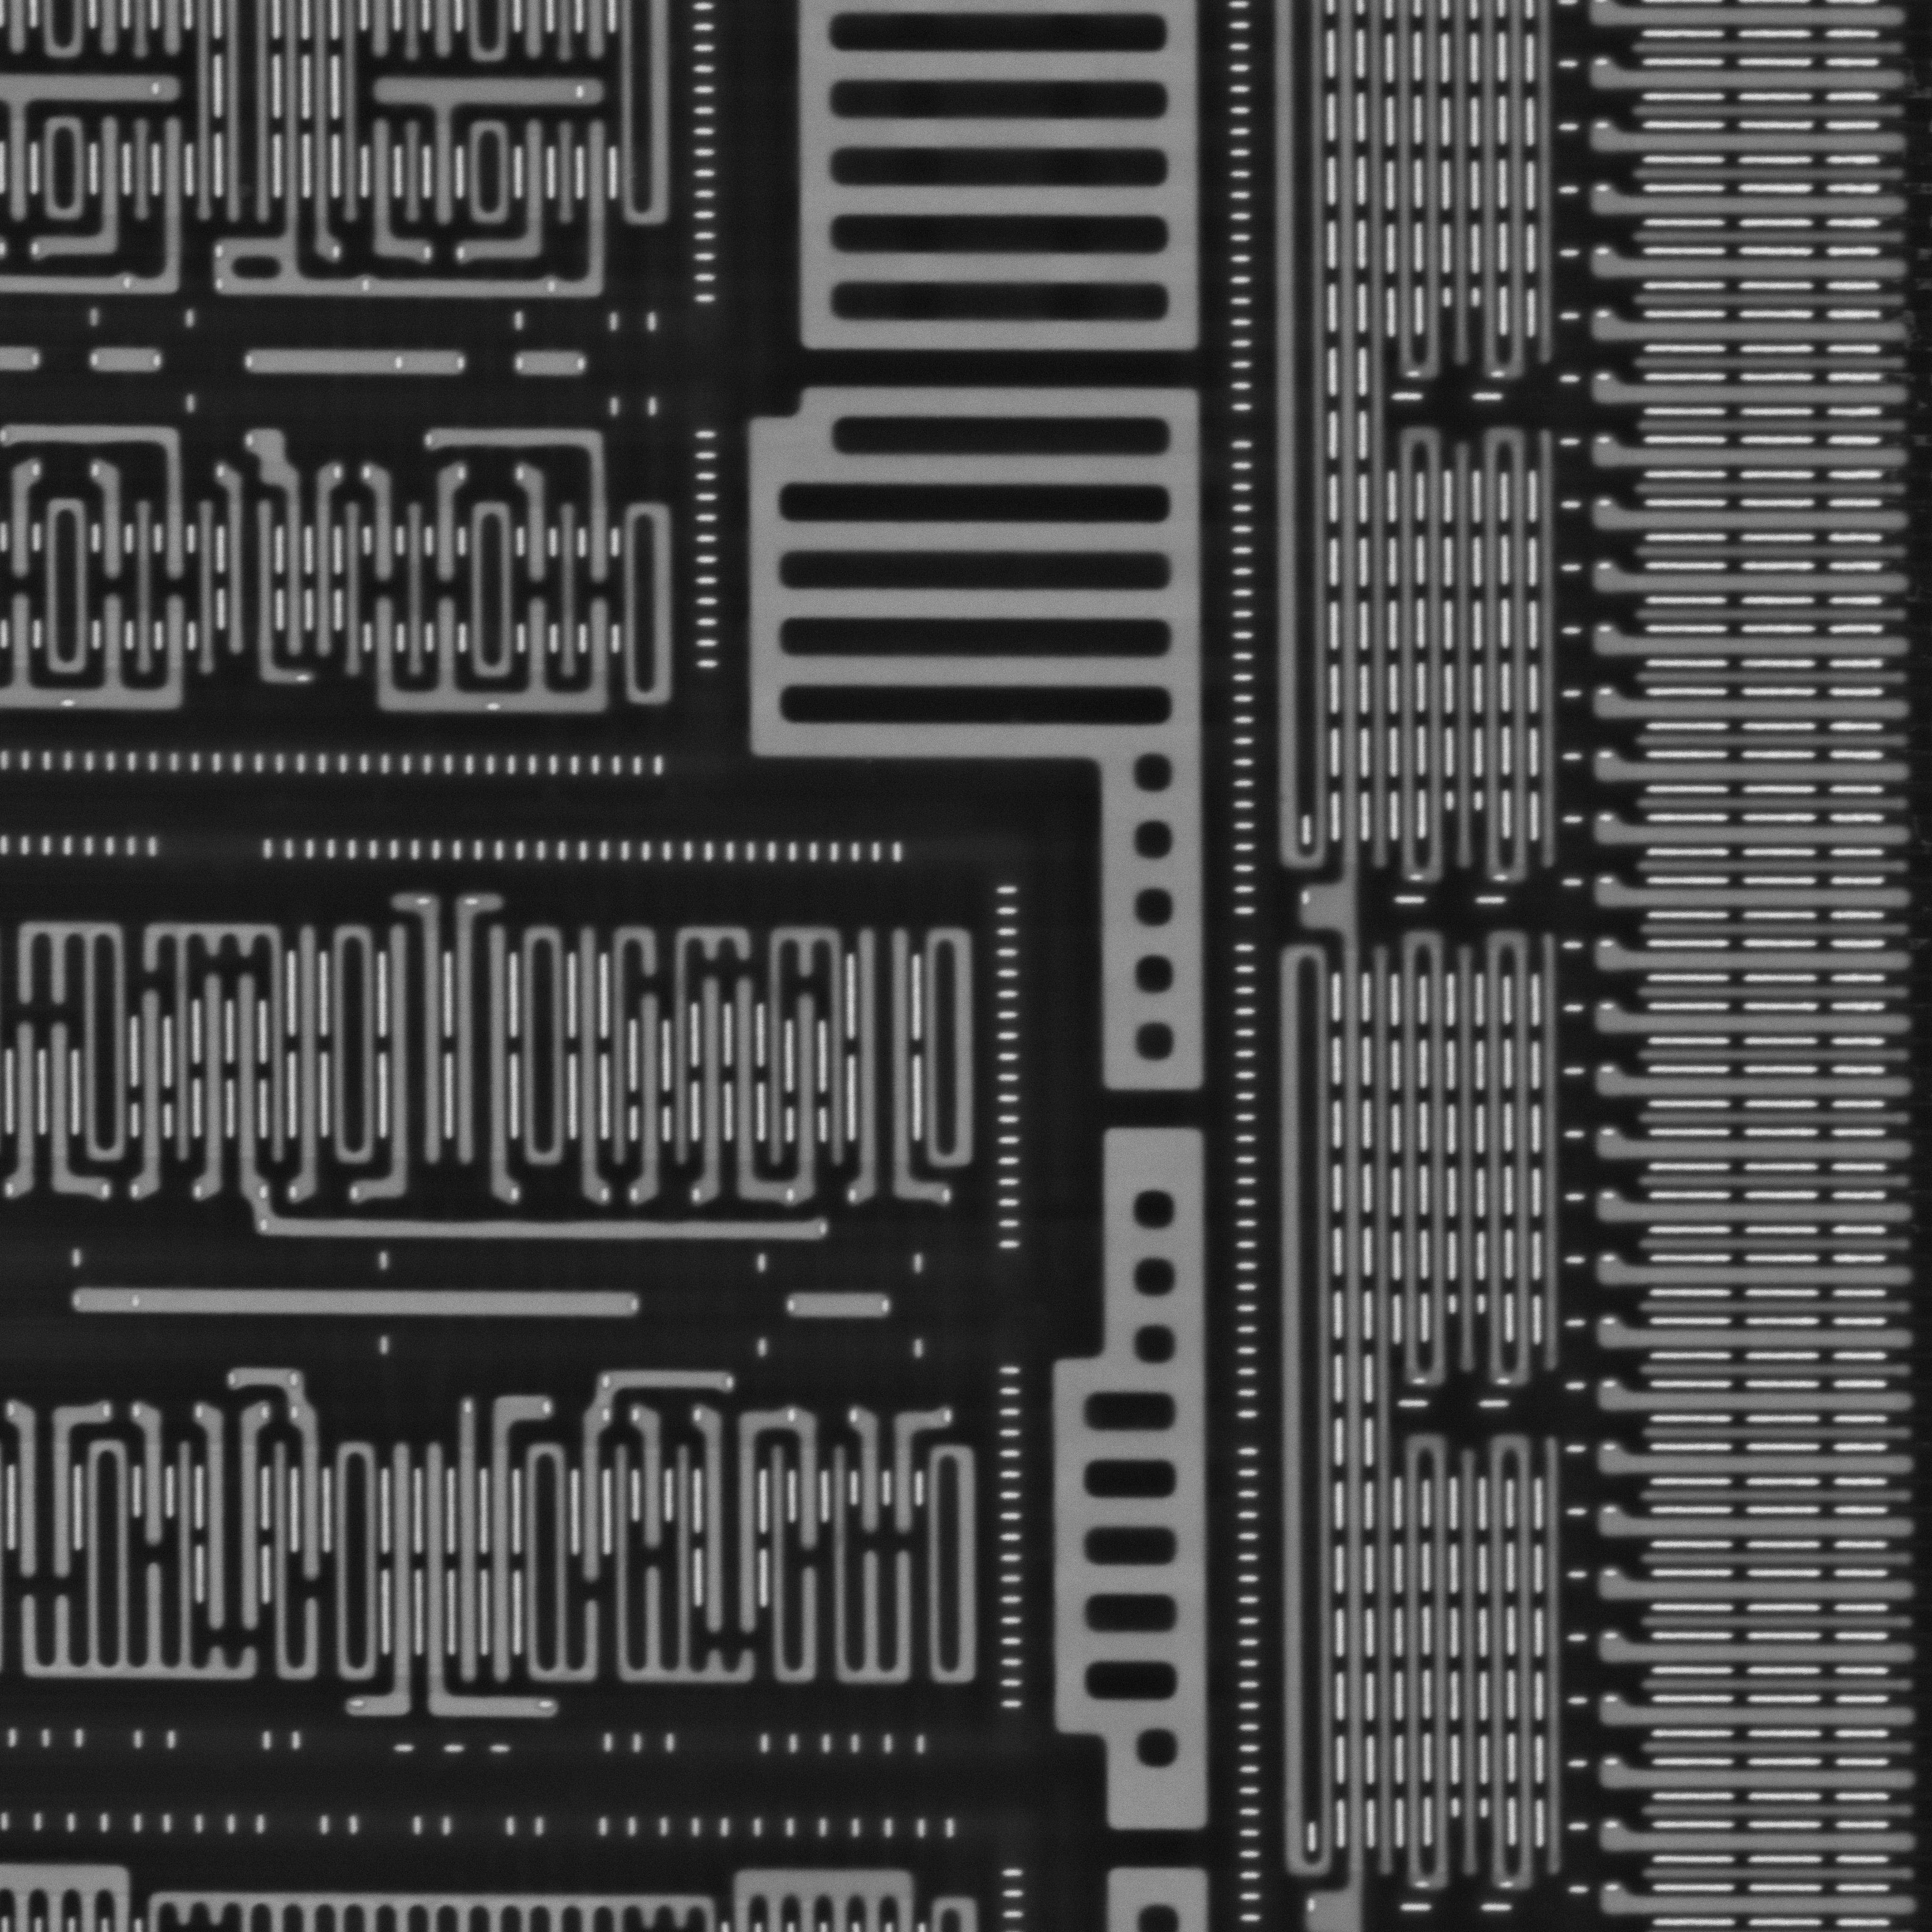doubleGate: (1389, 925, 1458, 1389)
insideDummy: (743, 370, 1221, 1095), (1044, 1131, 1219, 1835)
publicGate: (354, 870, 531, 1208), (837, 927, 959, 1205), (188, 1387, 274, 1647), (0, 1394, 111, 1587)
resistor: (69, 1286, 644, 1318), (782, 1293, 899, 1320)
singleGate: (1585, 874, 1916, 922), (439, 1391, 488, 1686)
